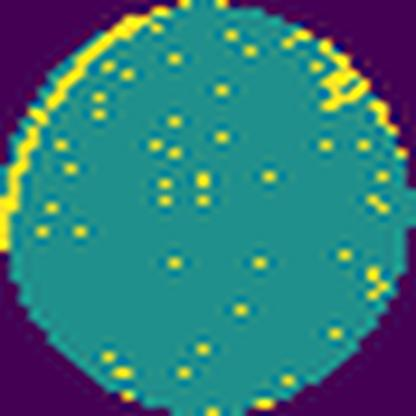Scratch: (0, 5, 165, 253)
